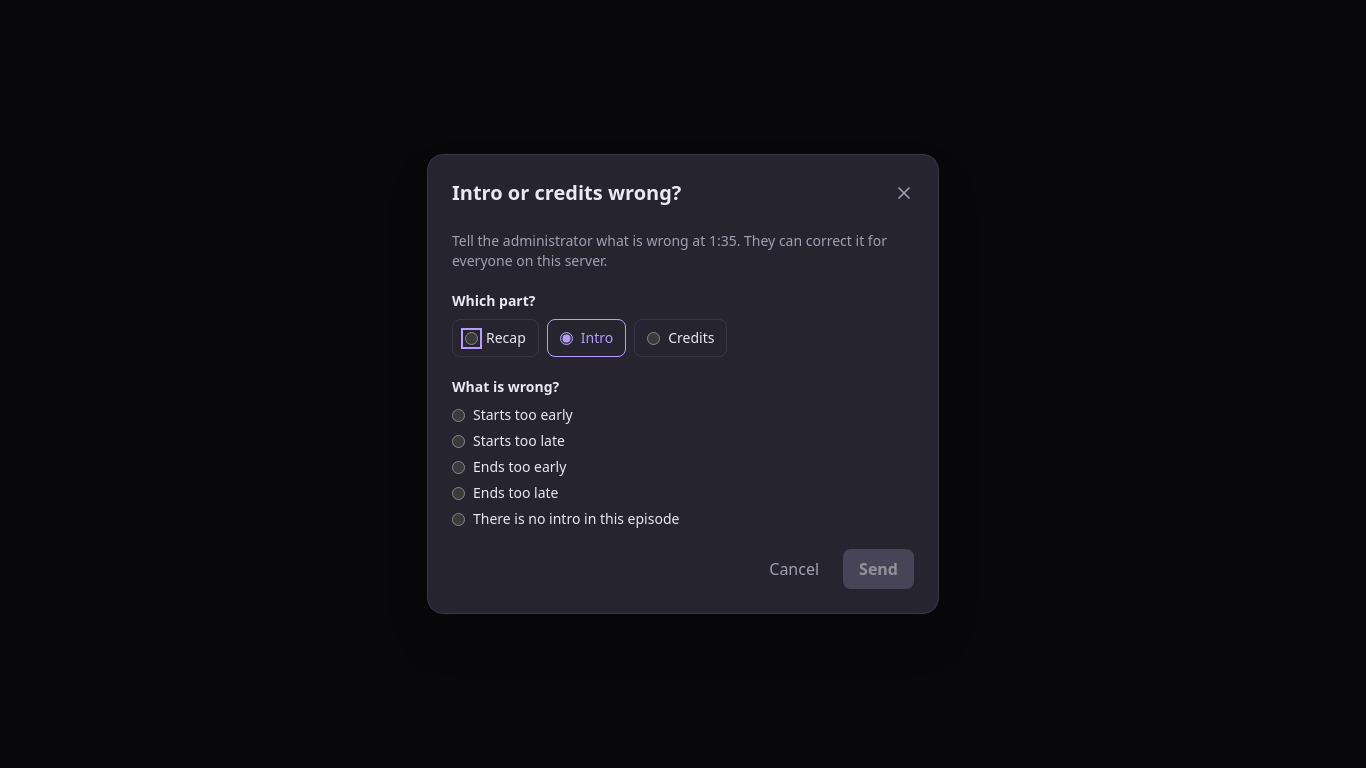
it: reporting a wrong intro or credits › says so kindly when too many reports were sent
This screenshot has width=1366, height=768.
Step 1. Click the radio button labelled "Starts too early" → (458, 415), box [452,408,465,422]
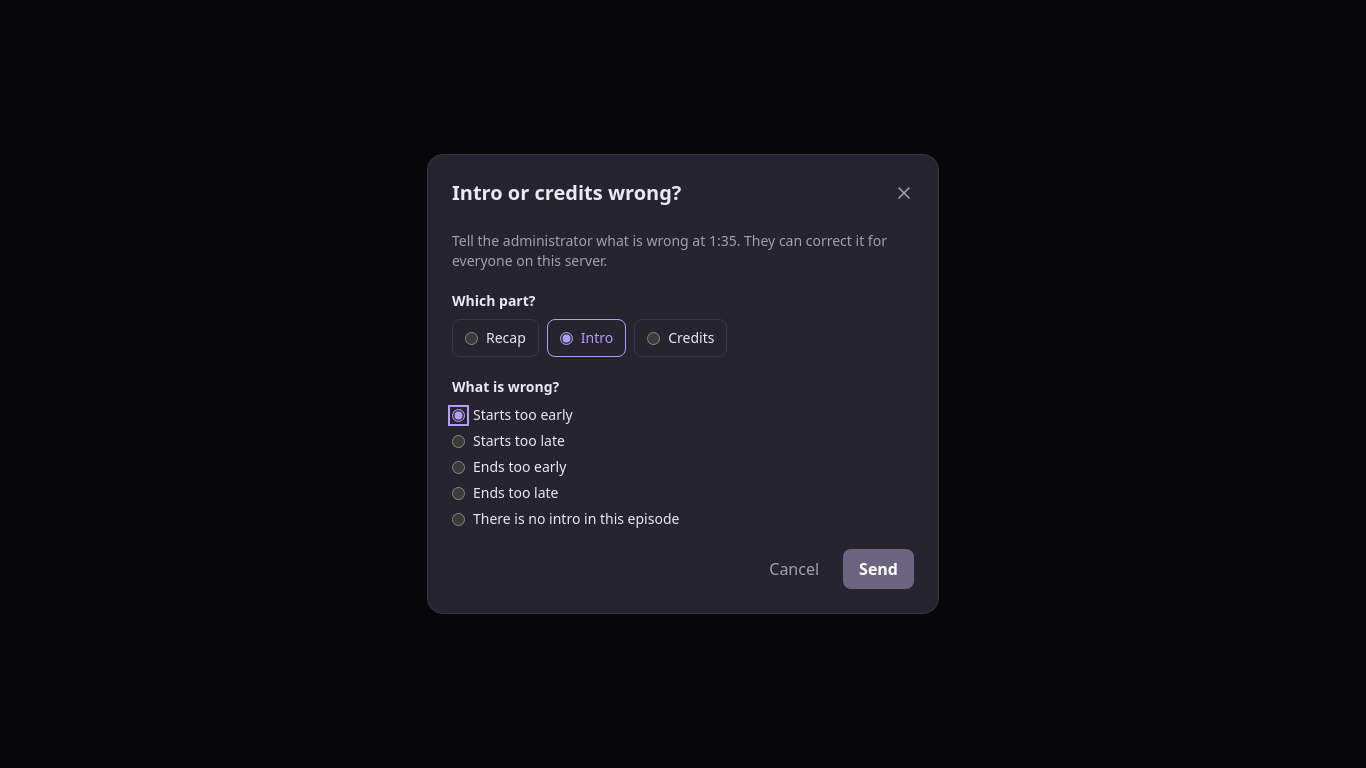
Step 2. Click the button "Send" → (879, 569), box [843,549,914,589]
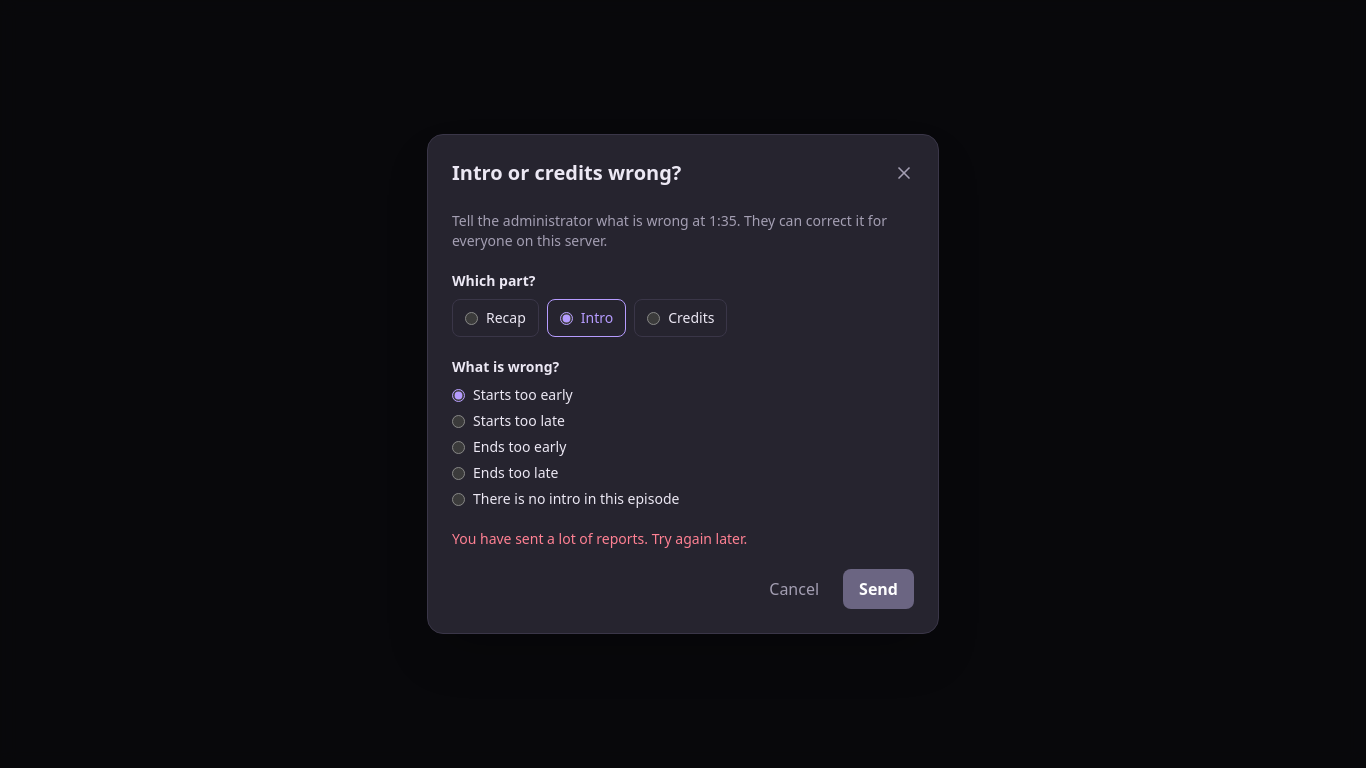
Expected: the message reads "You have sent a lot of reports. Try again later.", [452,529,747,548]
